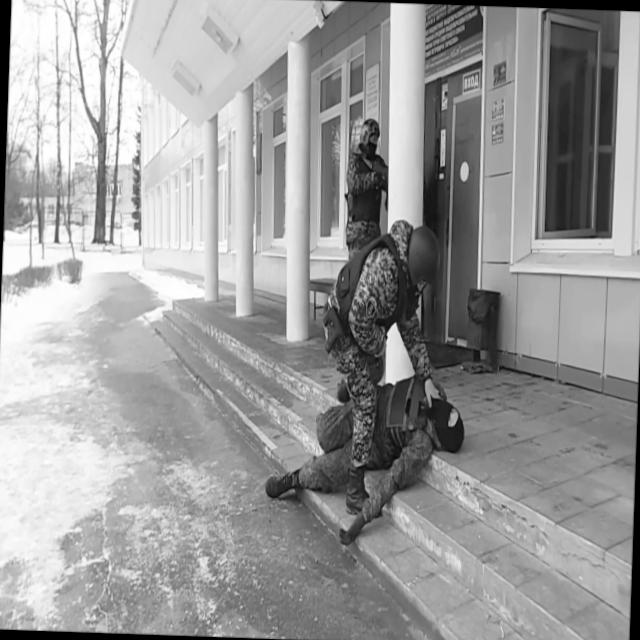gun: (322, 303, 344, 356), (369, 154, 389, 197)
person: (263, 363, 468, 550), (343, 115, 391, 262)
person with a gun: (316, 215, 449, 516), (342, 114, 391, 264)
